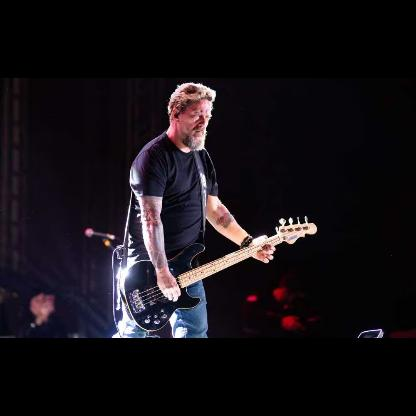bass: (124, 216, 318, 332)
